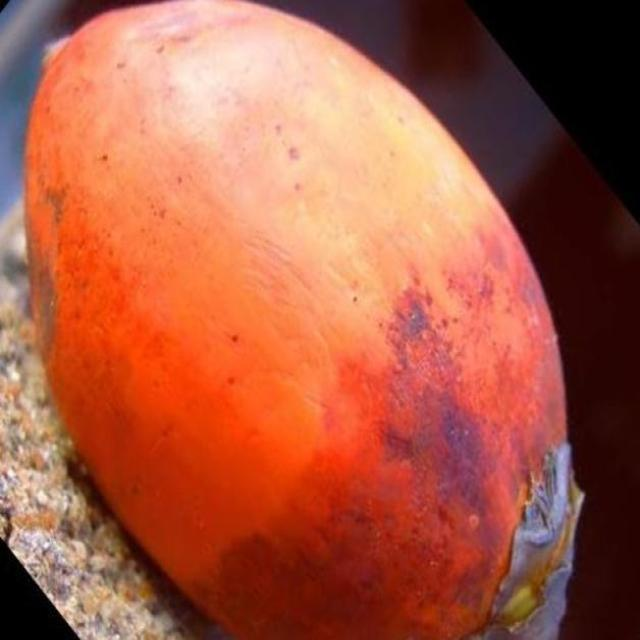good: (20, 0, 586, 639)
